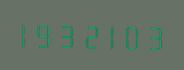nine: (38, 19, 58, 49)
one: (17, 18, 37, 49), (101, 20, 121, 50)
three: (143, 20, 163, 51), (59, 19, 79, 49)
two: (80, 19, 100, 50)
zero: (122, 20, 142, 50)
